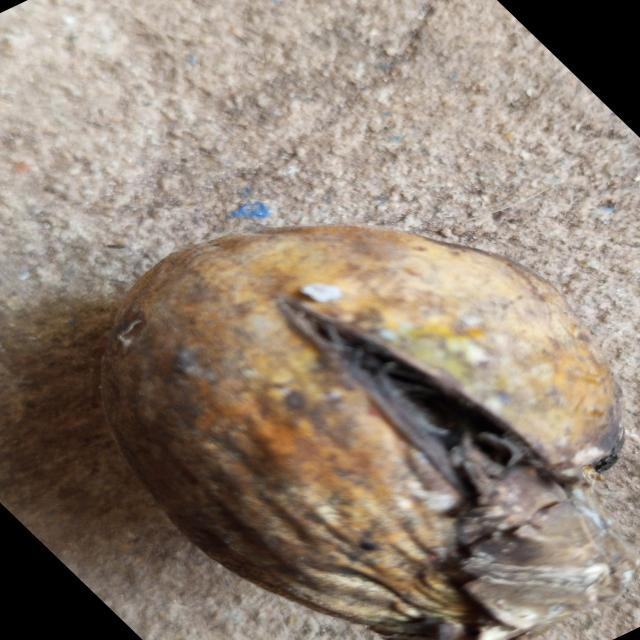damaged: (99, 224, 634, 640)
